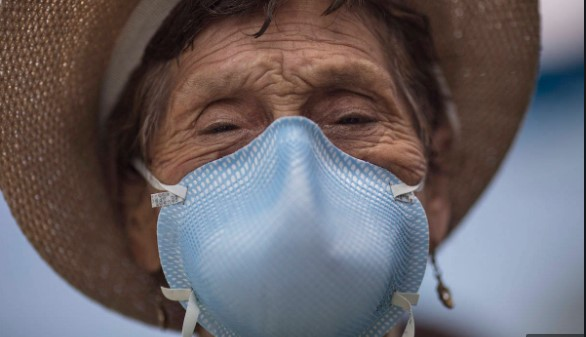face_with_mask: (3, 0, 535, 331)
